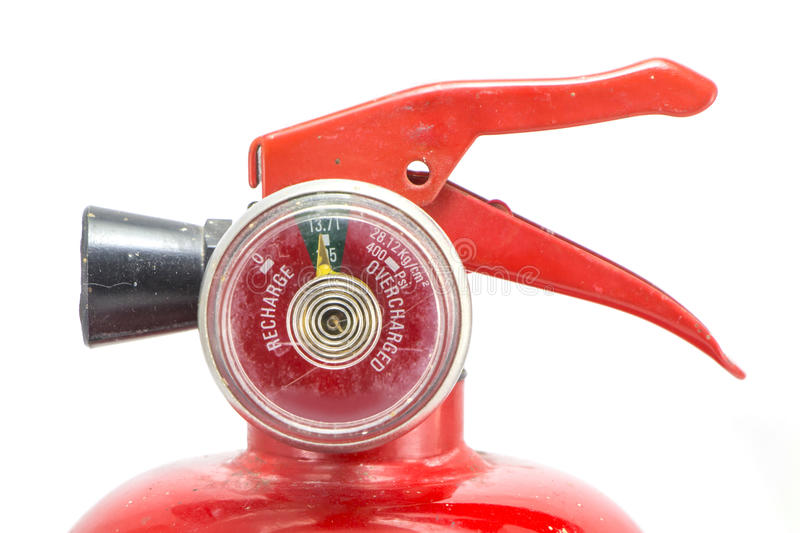fire_extinguisher: (68, 56, 747, 532)
